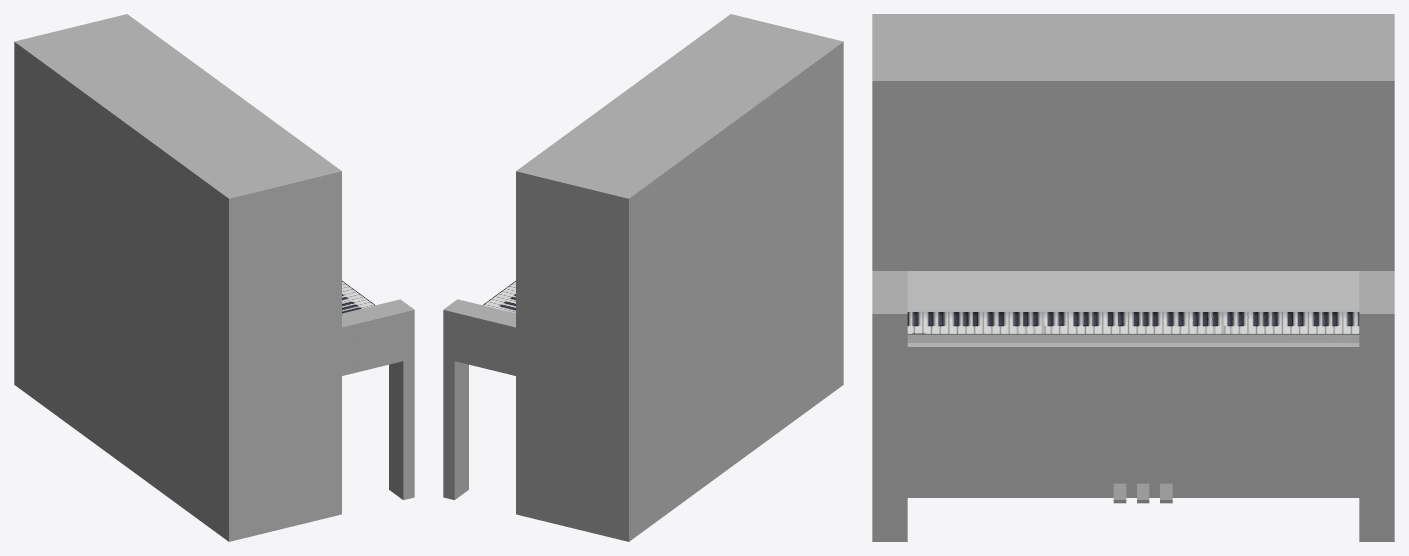
Rendered from piano.fbx.
3 renders of one model, left to right at view 1: azimuth 30°, elevation 25°; view 2: azimuth 150°, elevation 25°; view 3: azimuth 270°, elevation 25°, orthographic. The views are drawn at different scales.
Visible parts, largest first — view 1: body, gun_ban; view 2: body, gun_ban; view 3: body, gun_ban.
Part boxes in pixels (left/top/right/bottom): body: left=14, top=14, right=414, bottom=541; gun_ban: left=342, top=281, right=374, bottom=313; body: left=443, top=14, right=843, bottom=541; gun_ban: left=483, top=281, right=515, bottom=313; body: left=872, top=14, right=1394, bottom=541; gun_ban: left=907, top=312, right=1359, bottom=342.
Bounding box in the file's own units: 98.44 × 174 × 197.
Materials: 3 (1 with a texture image).
